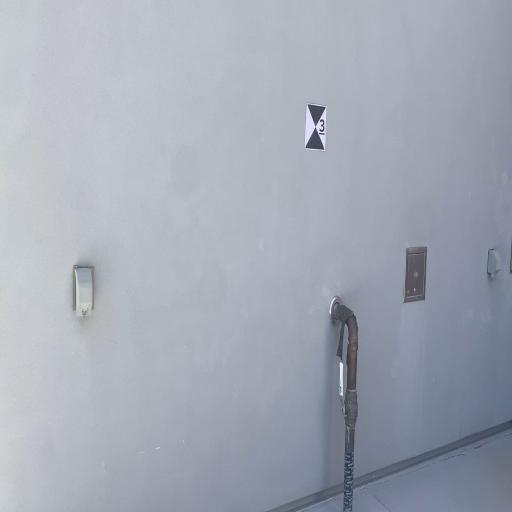target3: (304, 102, 327, 152)
